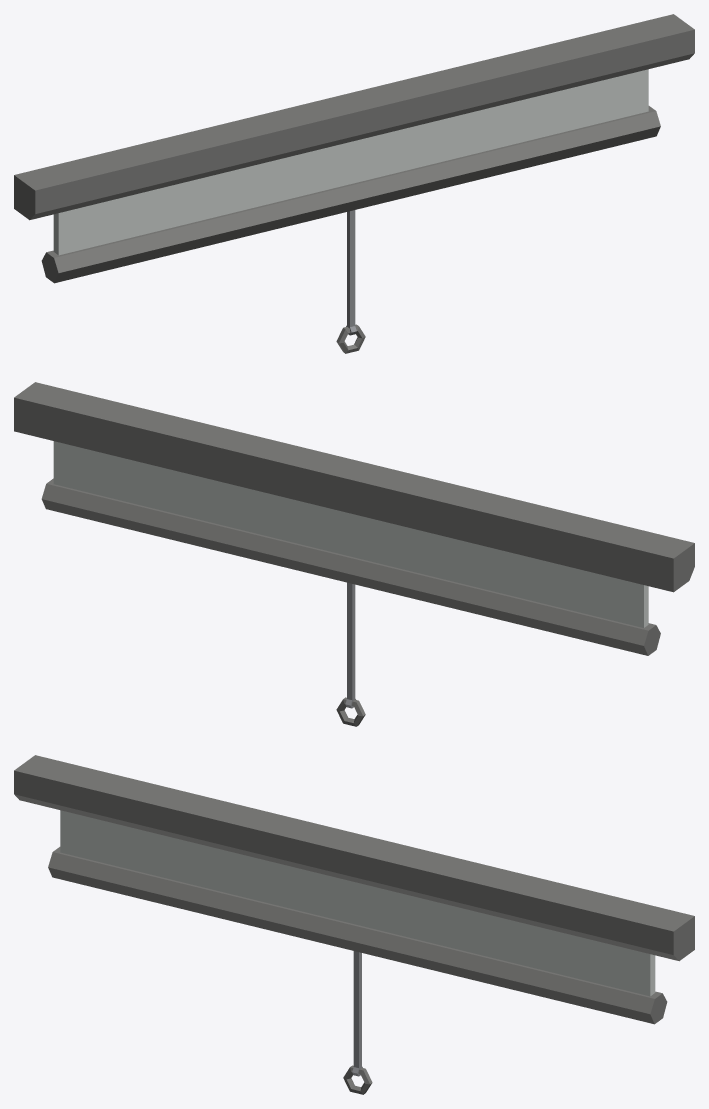
File: SM_Prop_ProjectorScreen_Up.fbx
3 views of the same model, one above another, from view 1: azimuth 30°, elevation 25°; view 2: azimuth 150°, elevation 25°; view 3: azimuth 330°, elevation 25° (orthographic).
Parts seen in each view (by area): view 1: SM_Prop_ProjectorScreen_02_Up; view 2: SM_Prop_ProjectorScreen_02_Up; view 3: SM_Prop_ProjectorScreen_02_Up.
Boxes of the visible parts, x1,y1,x2,y2 form: SM_Prop_ProjectorScreen_02_Up: [14, 14, 694, 353]; SM_Prop_ProjectorScreen_02_Up: [14, 382, 694, 726]; SM_Prop_ProjectorScreen_02_Up: [14, 755, 694, 1094].
Size of the model in its own units: 270 by 98.4 by 15.83.
Materials: 1 (1 with a texture image).
